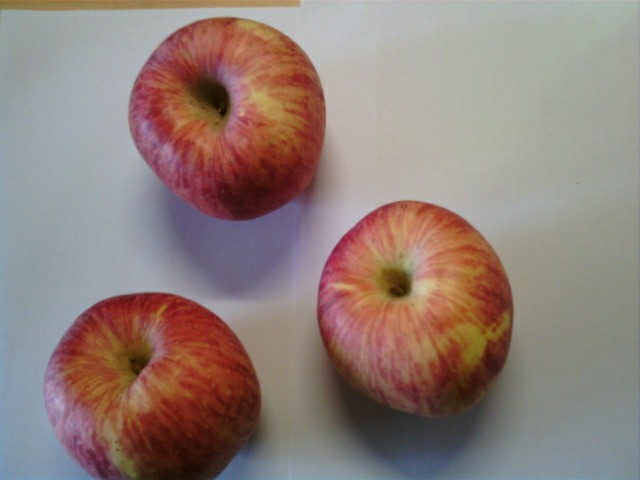normal_apple: (317, 200, 516, 417), (42, 290, 262, 480), (129, 16, 326, 221)
